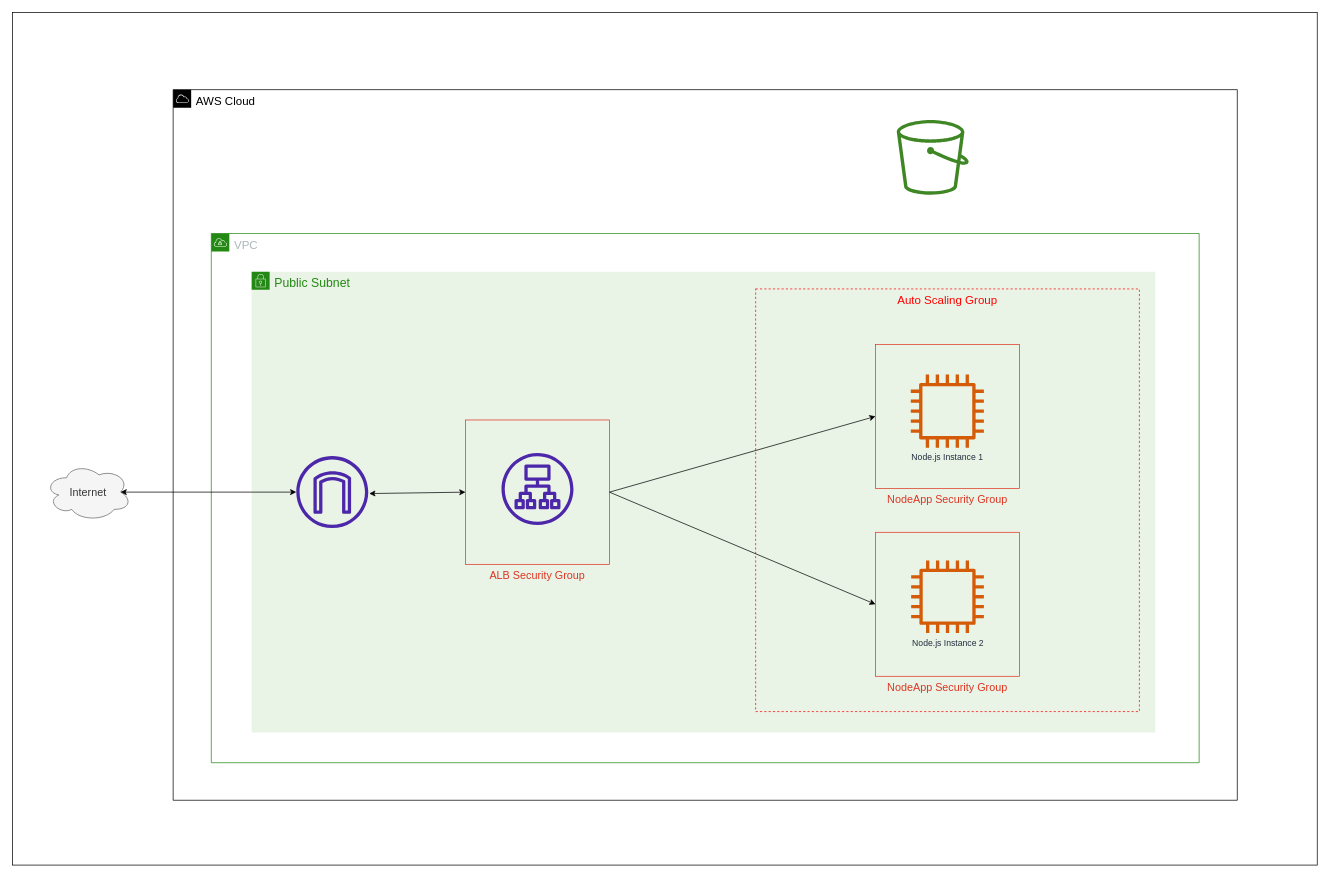
This 1330x878 diagram has some shape labels left out. The centre of each missing label's shape, as x and y in pixels:
"Application Load Balancer" goes at (537,489).
"Internet Gateway" goes at (332,492).
"S3 Bucket" goes at (932,157).
